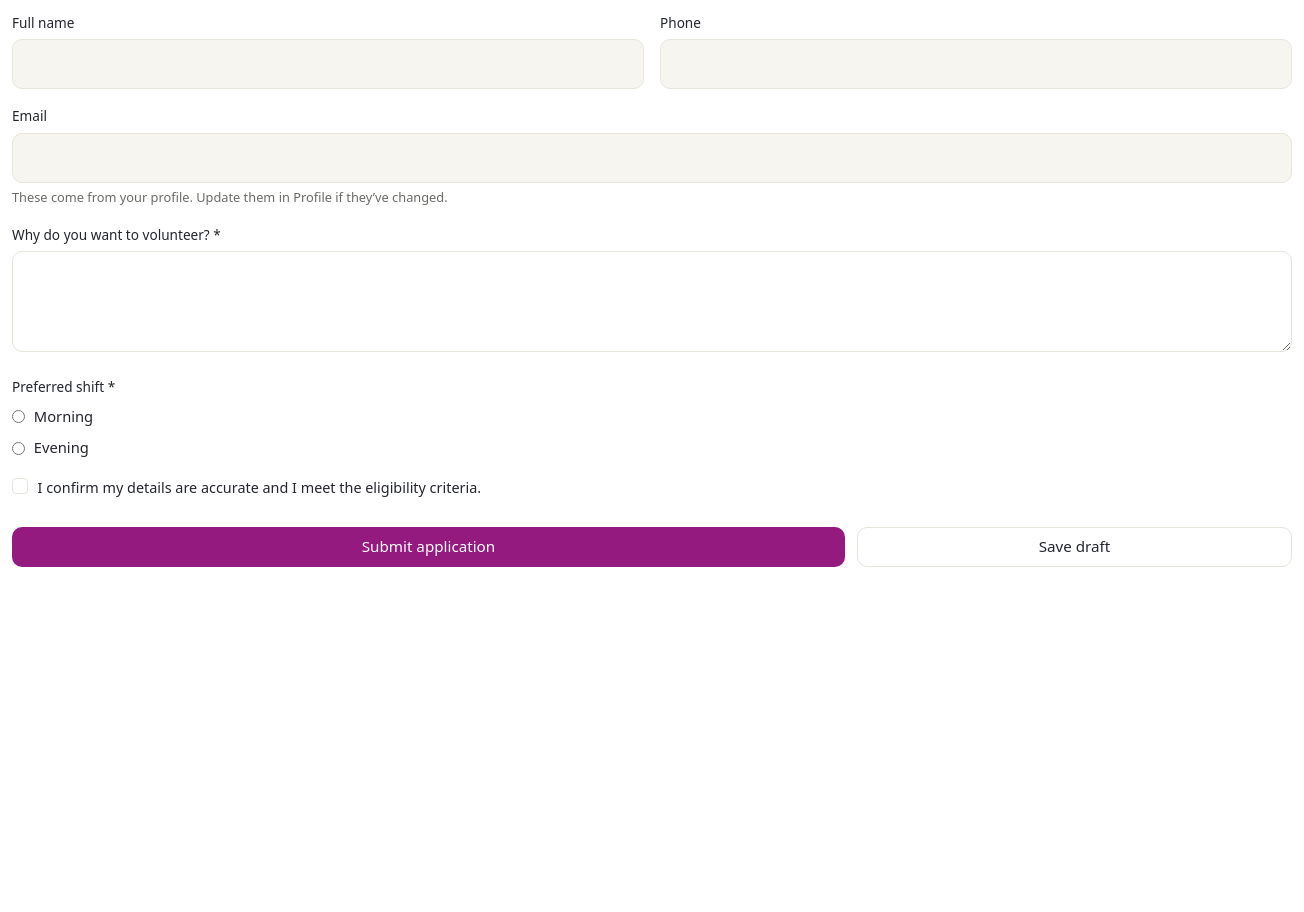
Test: ApplyForm (dynamic) › blocks submission and highlights the missing required fields (client-side)
Click the button "Submit application" at (428, 547), box [12,527,845,567]
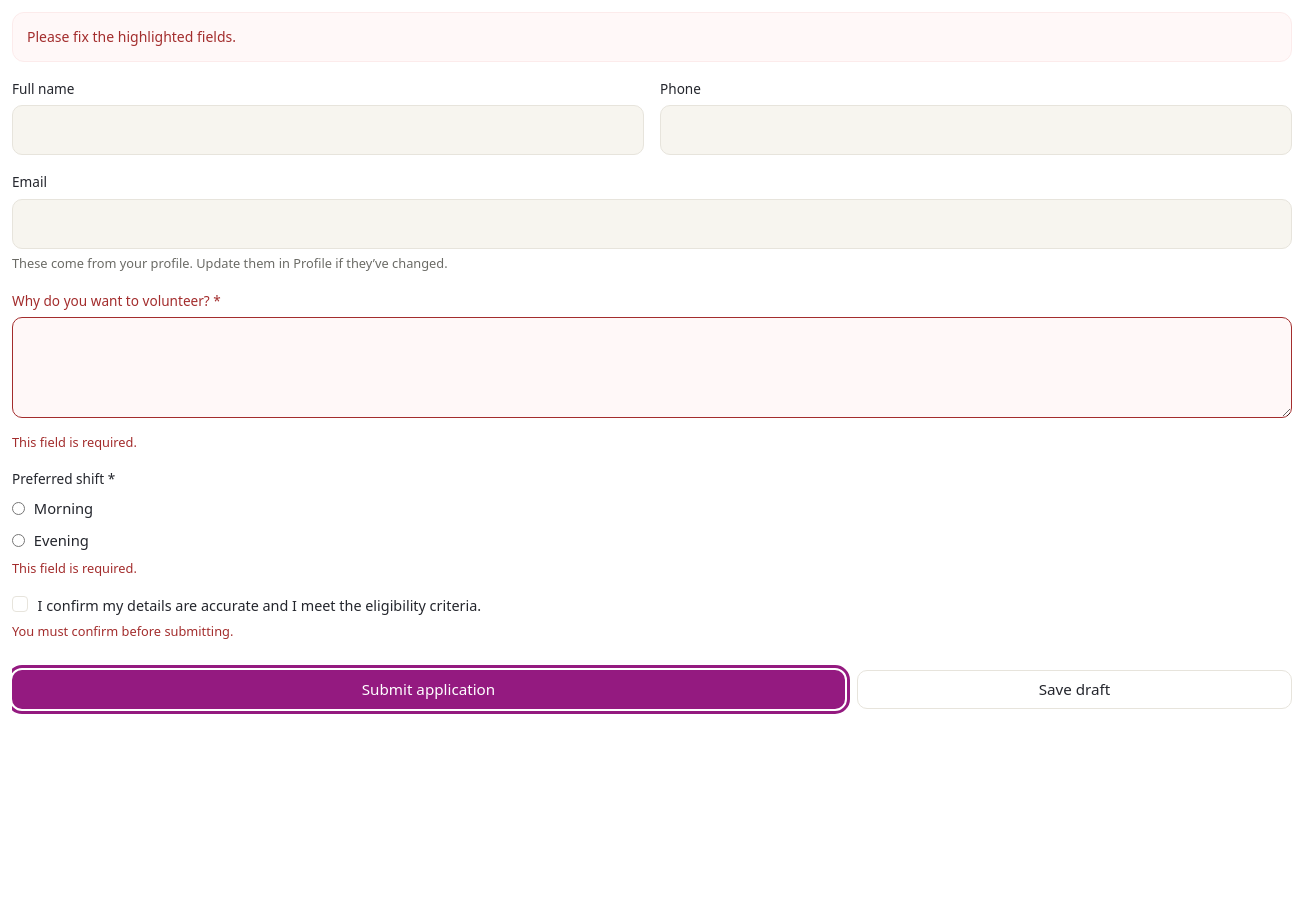
Expected: the text "Please fix the highlighted fields." is shown, [12,12,1292,62]
